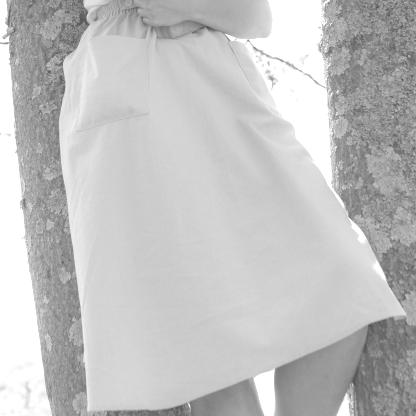dress: (52, 0, 416, 414)
